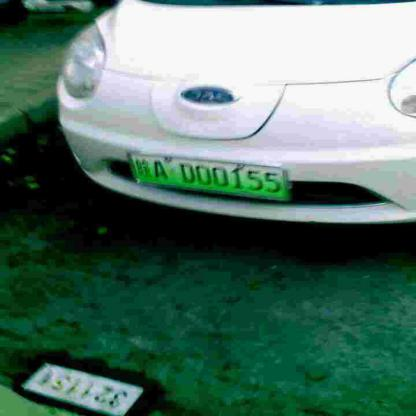lp: (129, 153, 289, 201)
